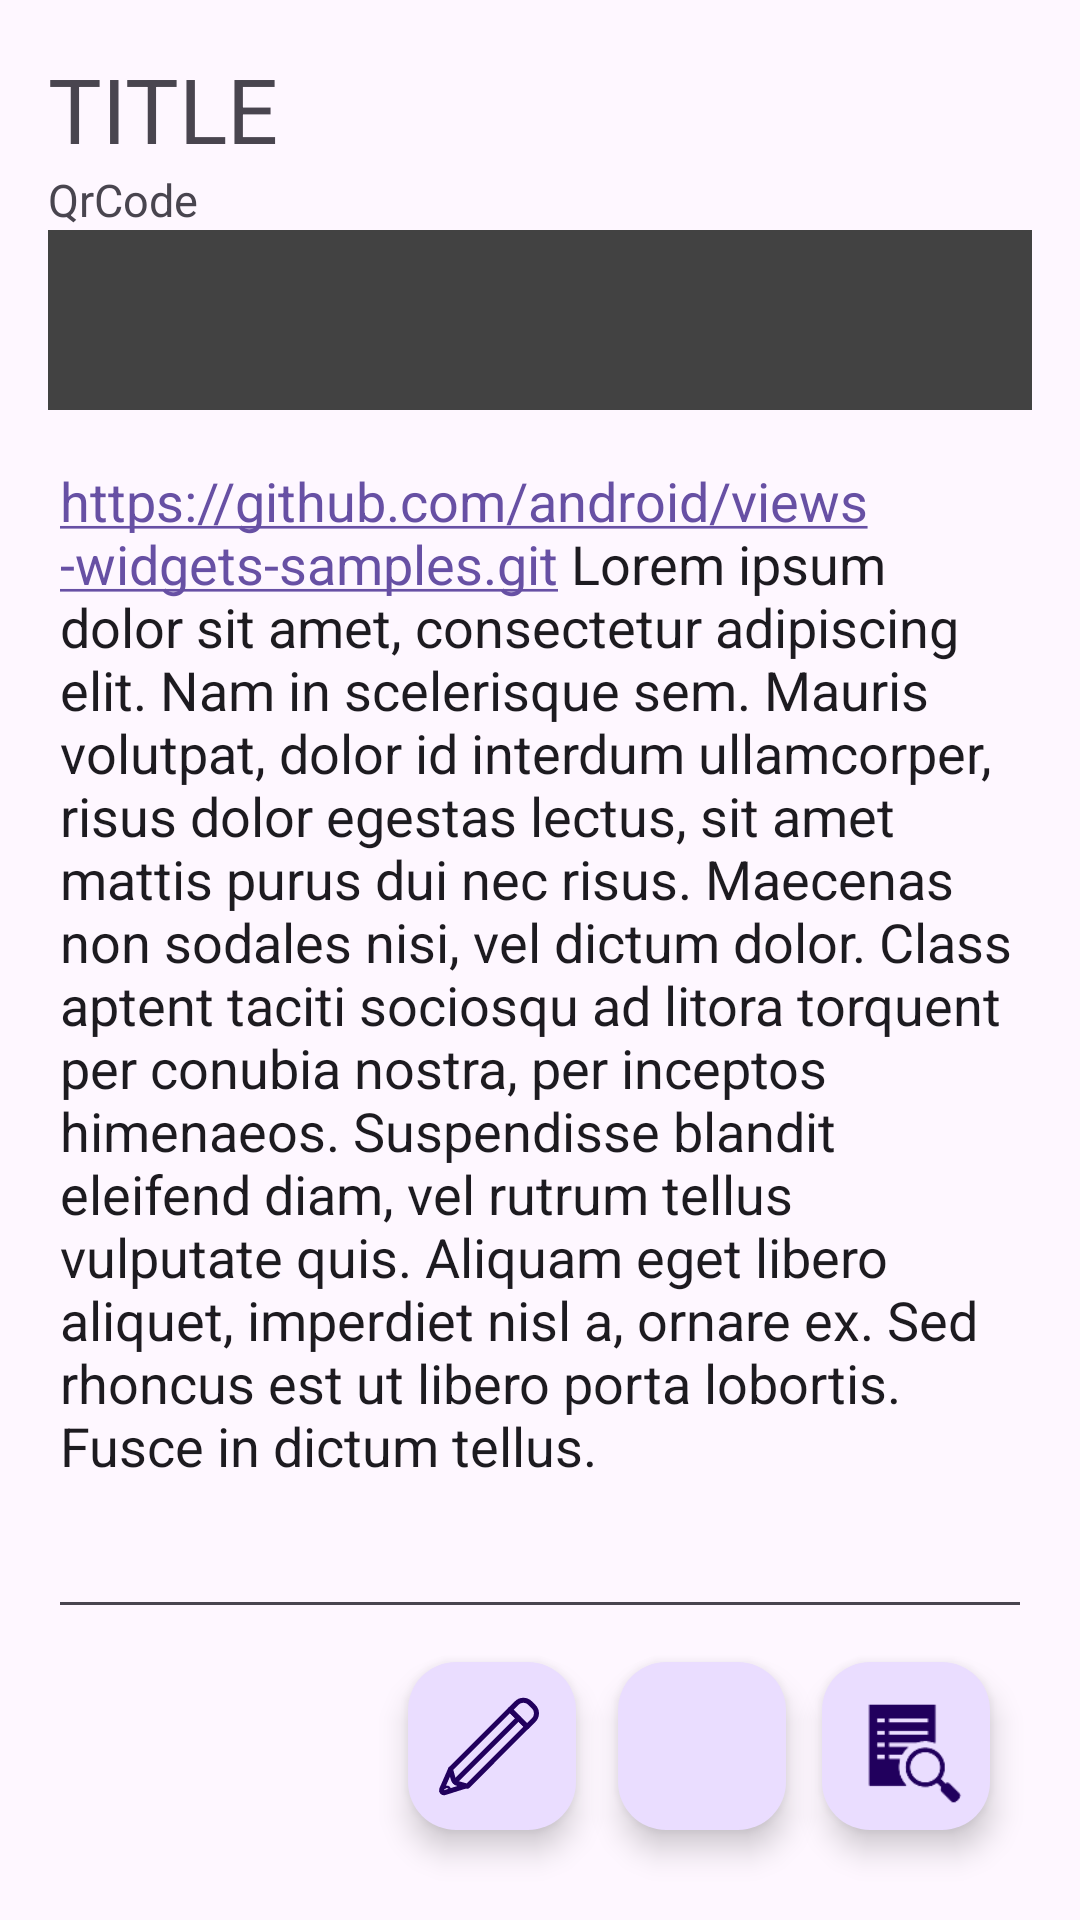

Where icons sit on this 1080px x 1920px app screen, as Rect(x1, y1, x2, y2):
sketch: Rect(408, 1662, 576, 1830)
